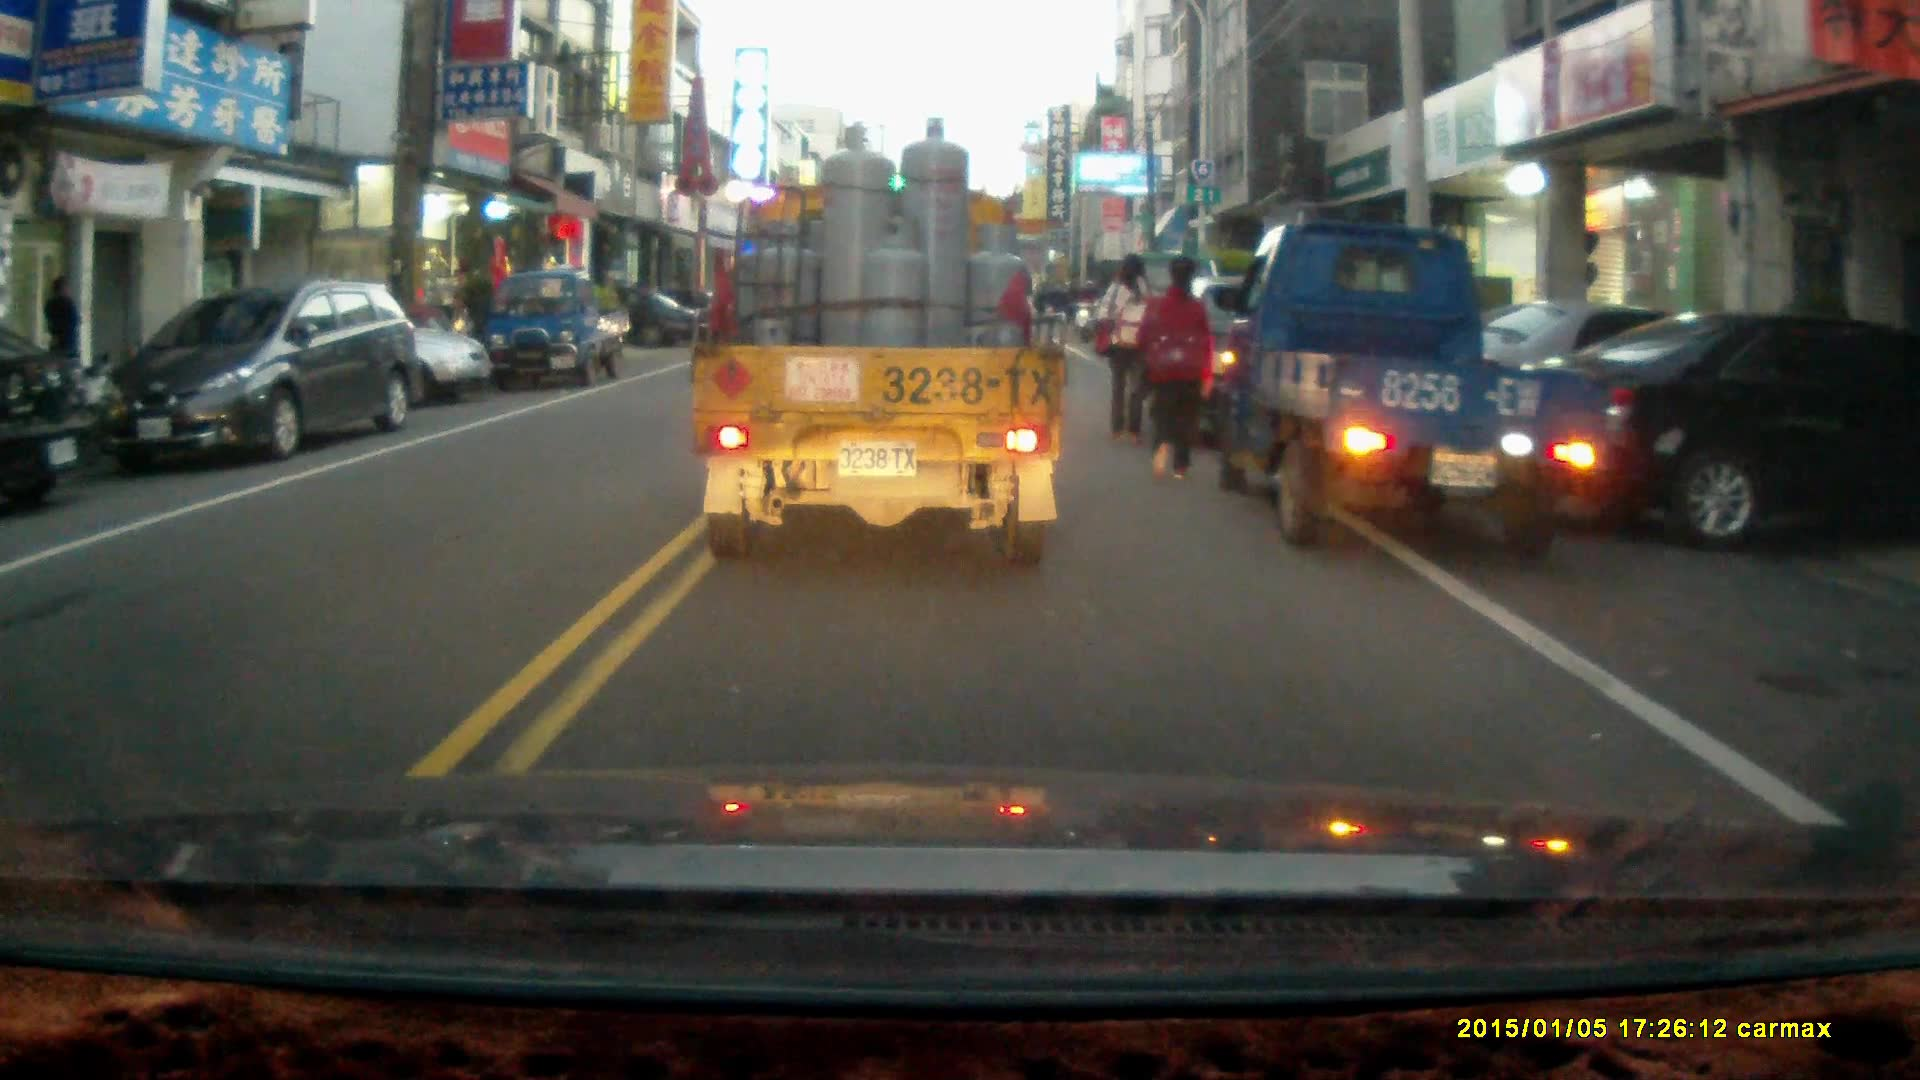pedestrian: (1130, 253, 1212, 478), (1098, 252, 1162, 447), (38, 272, 83, 393)
rider: (1069, 278, 1099, 341)
vehicle: (688, 118, 1068, 574), (1212, 223, 1611, 568), (97, 281, 421, 470), (232, 292, 494, 413), (1, 330, 104, 510), (481, 273, 624, 396)
